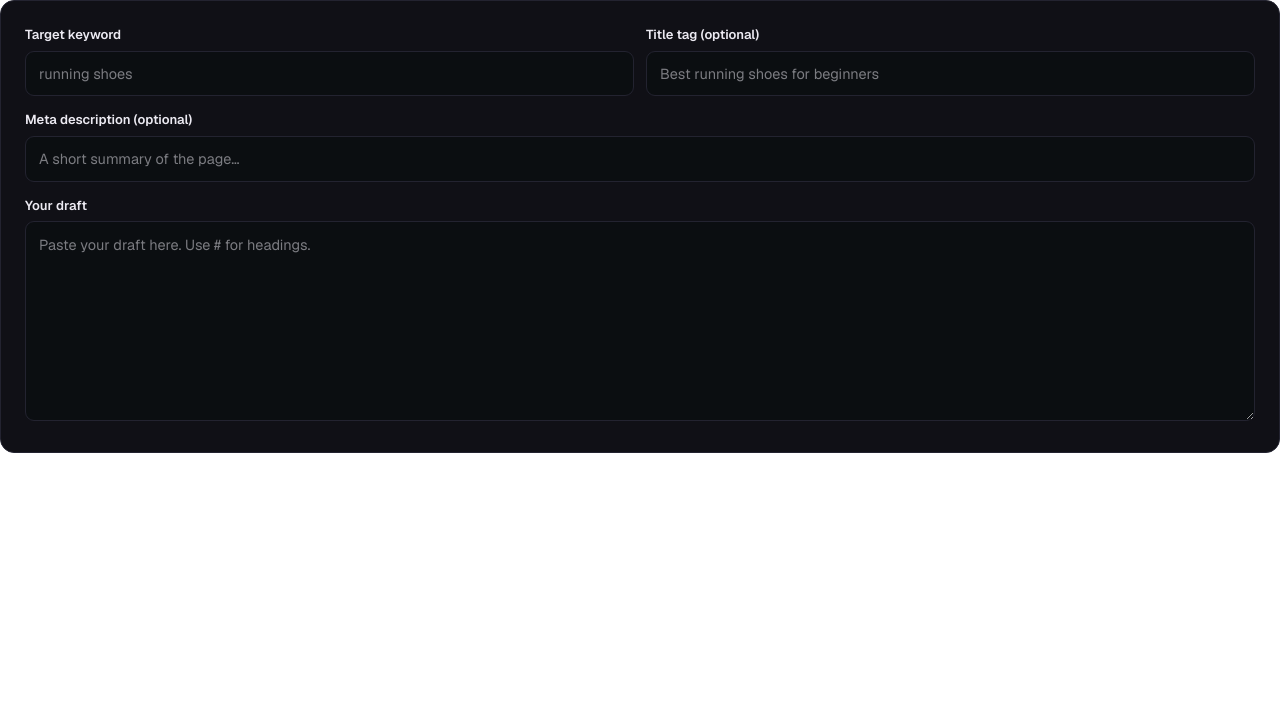
Test case: rendered results › shows the score in a ring with a grade, not a bare number
In the field with id "co-keyword": (330, 73) [25, 50, 634, 96], type "italian food"
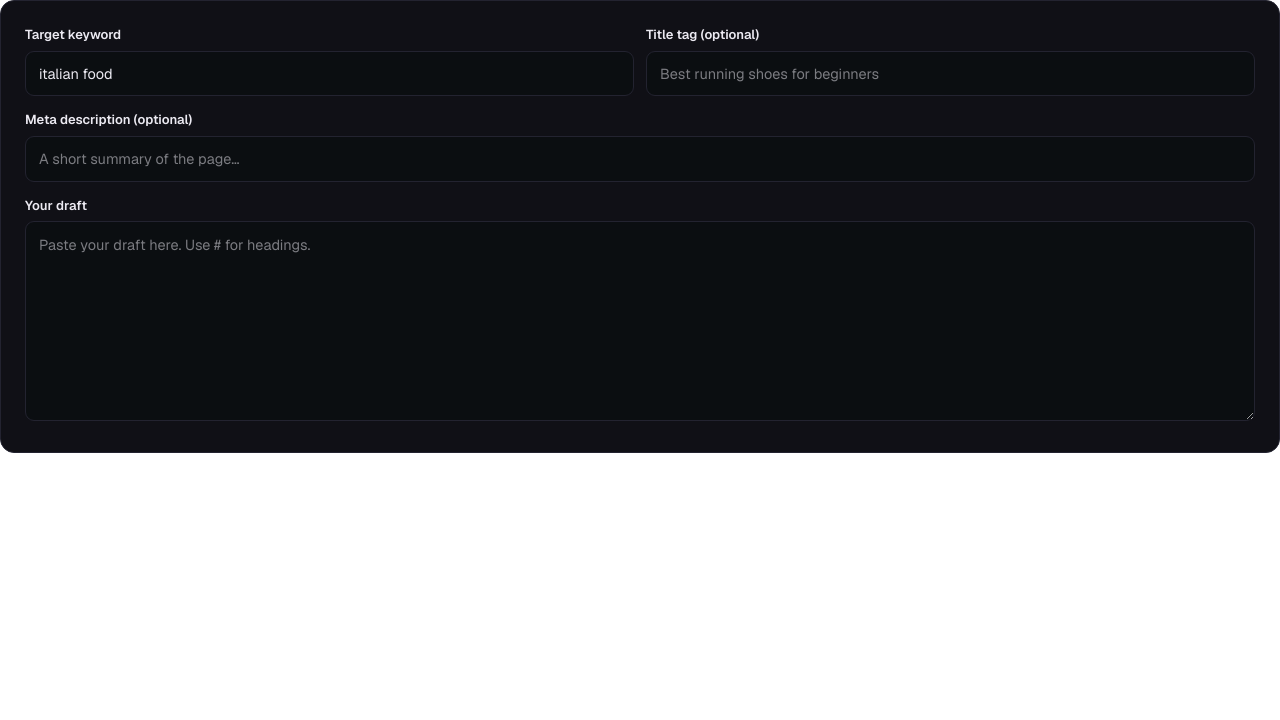
In the field with id "co-title": (950, 73) [646, 50, 1255, 96], type "Italian food"
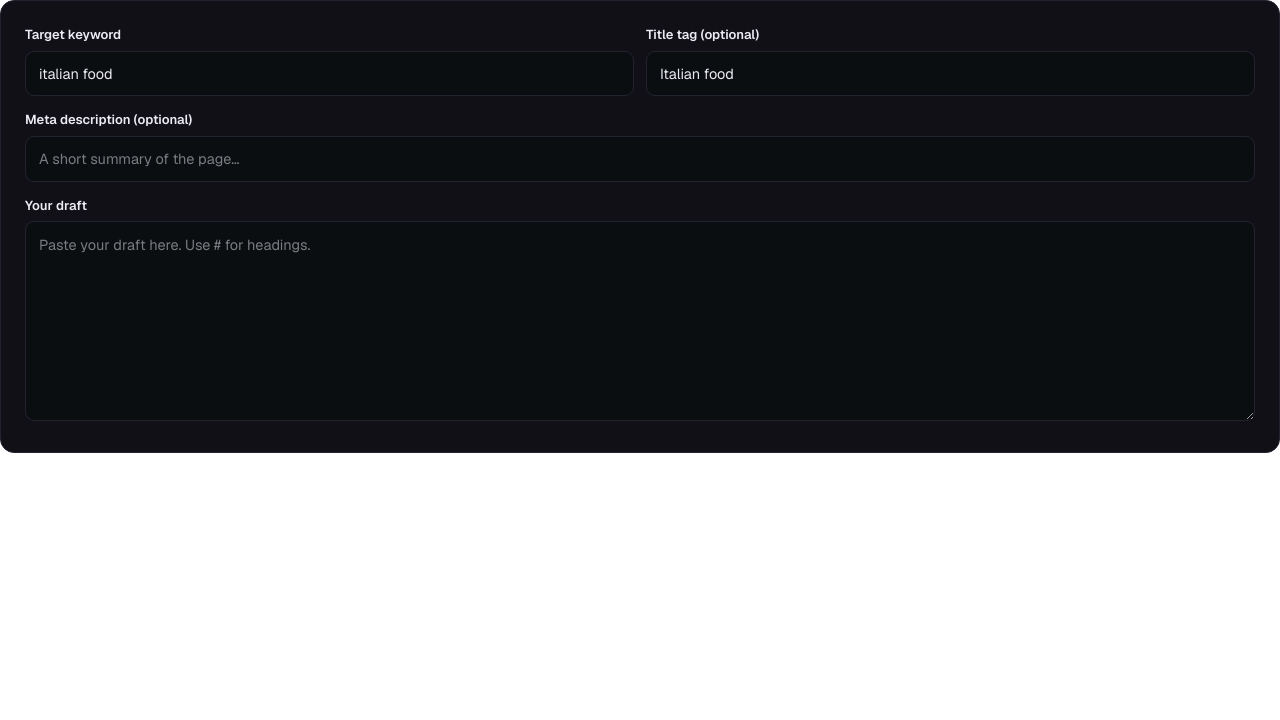
In the text box with id "co-text": (640, 321) [25, 221, 1255, 421], type "Italian food is good."
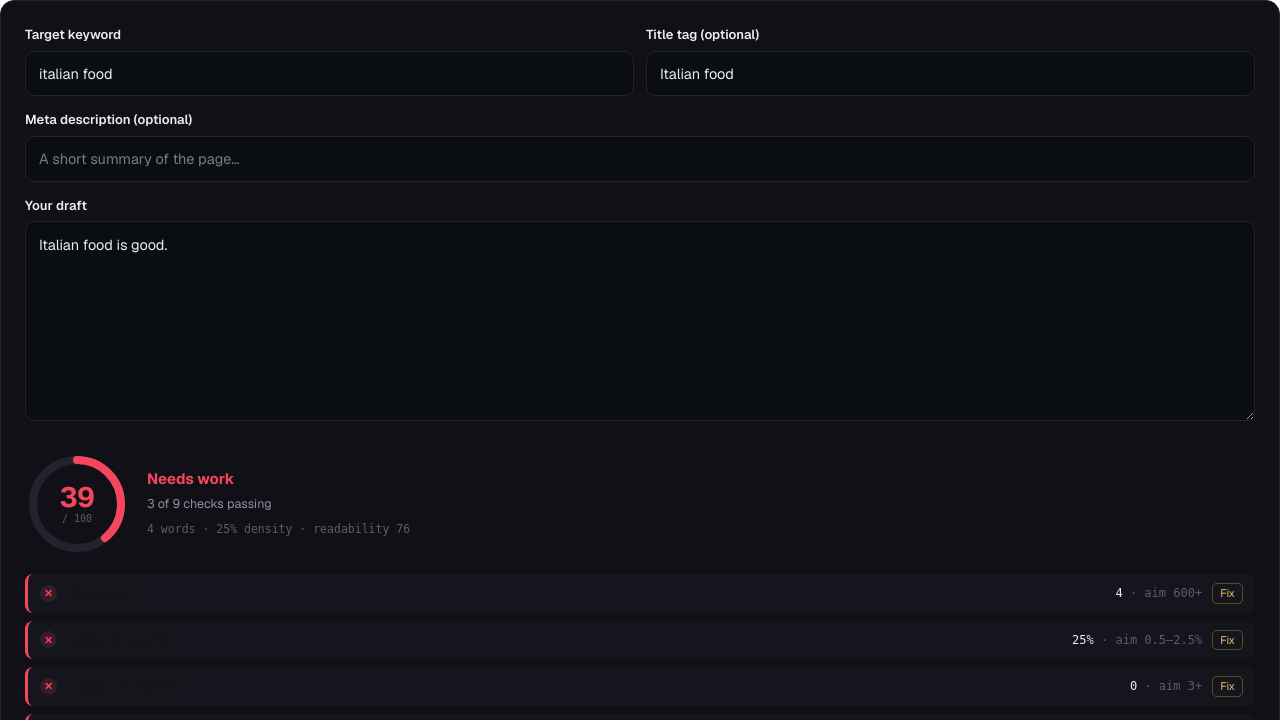
Expected: the text "3 of 9 checks passing" is shown, [147, 495, 272, 512]
Expected: the text "/ 100" is shown, [62, 510, 92, 526]
